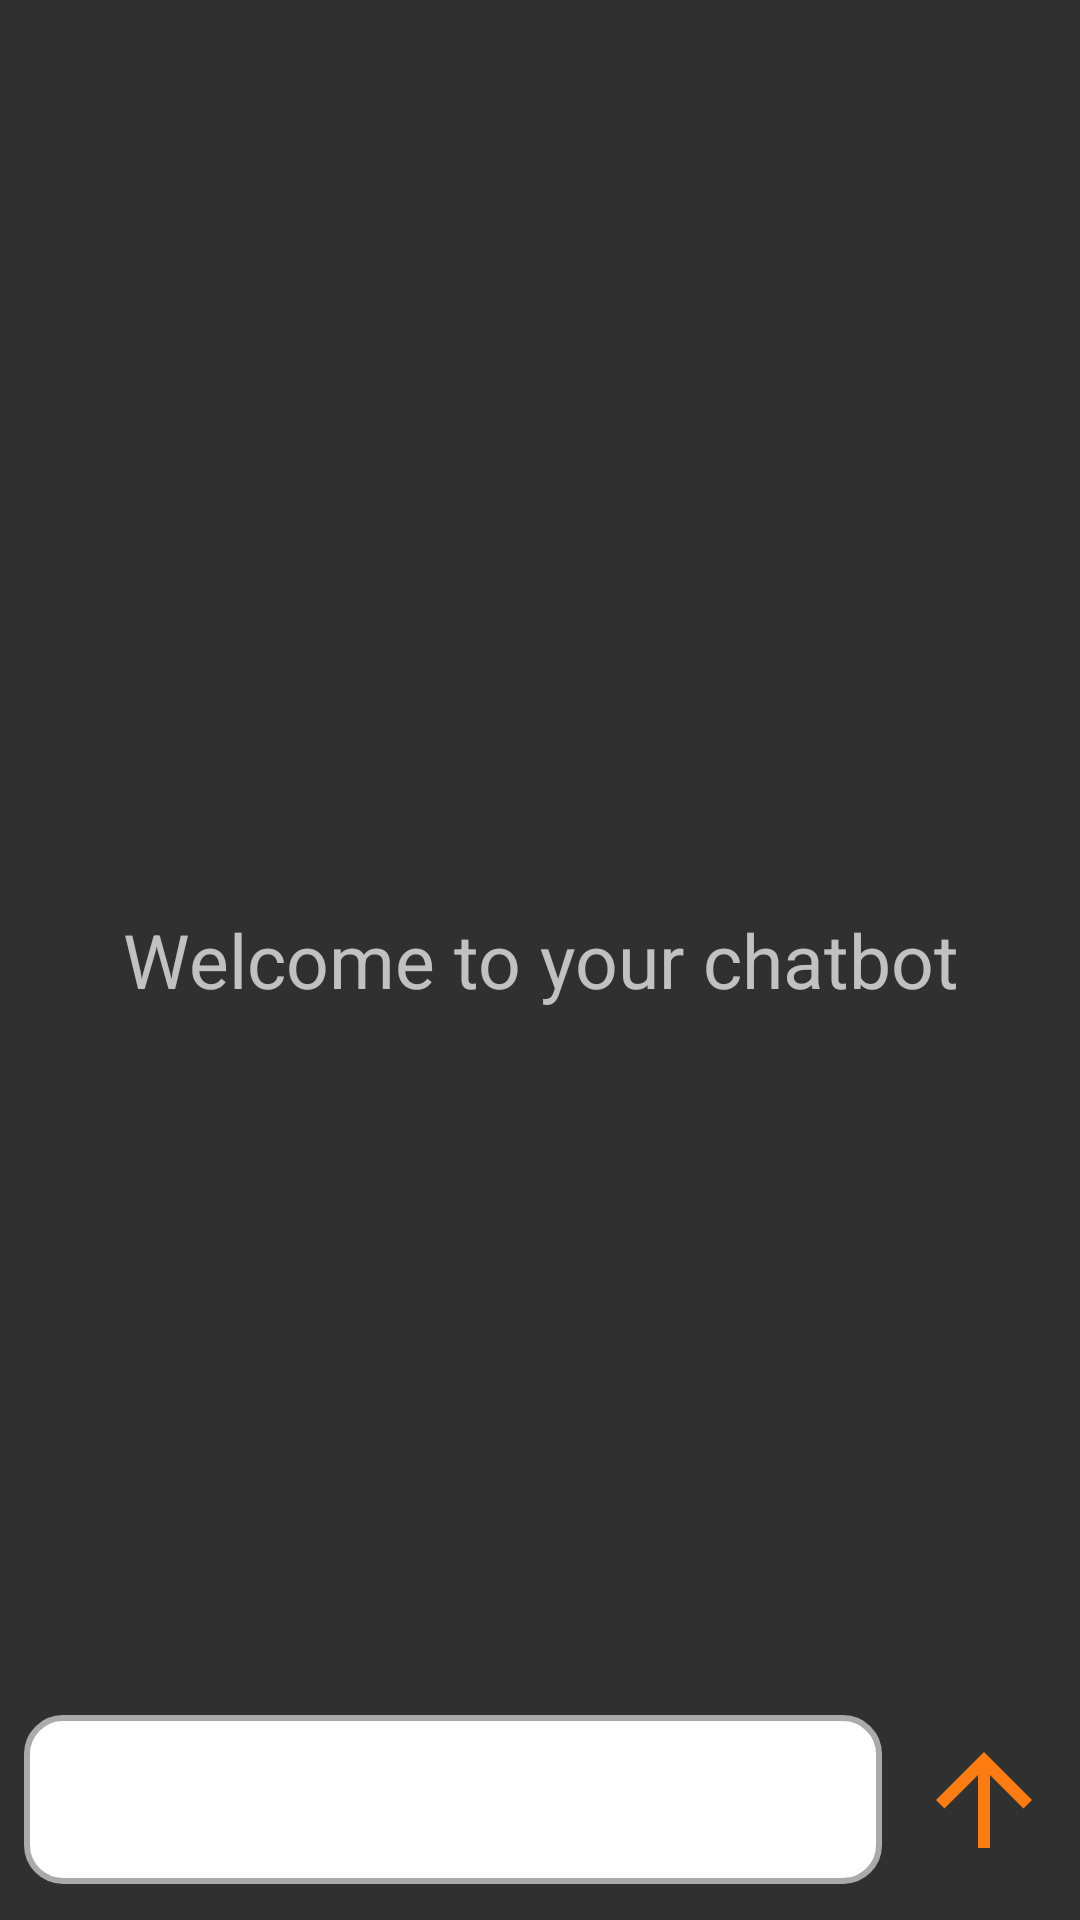

Point at icon controls on the screen. Image size 1080×1920, points as (x,y).
arrow upward: (984,1800)
